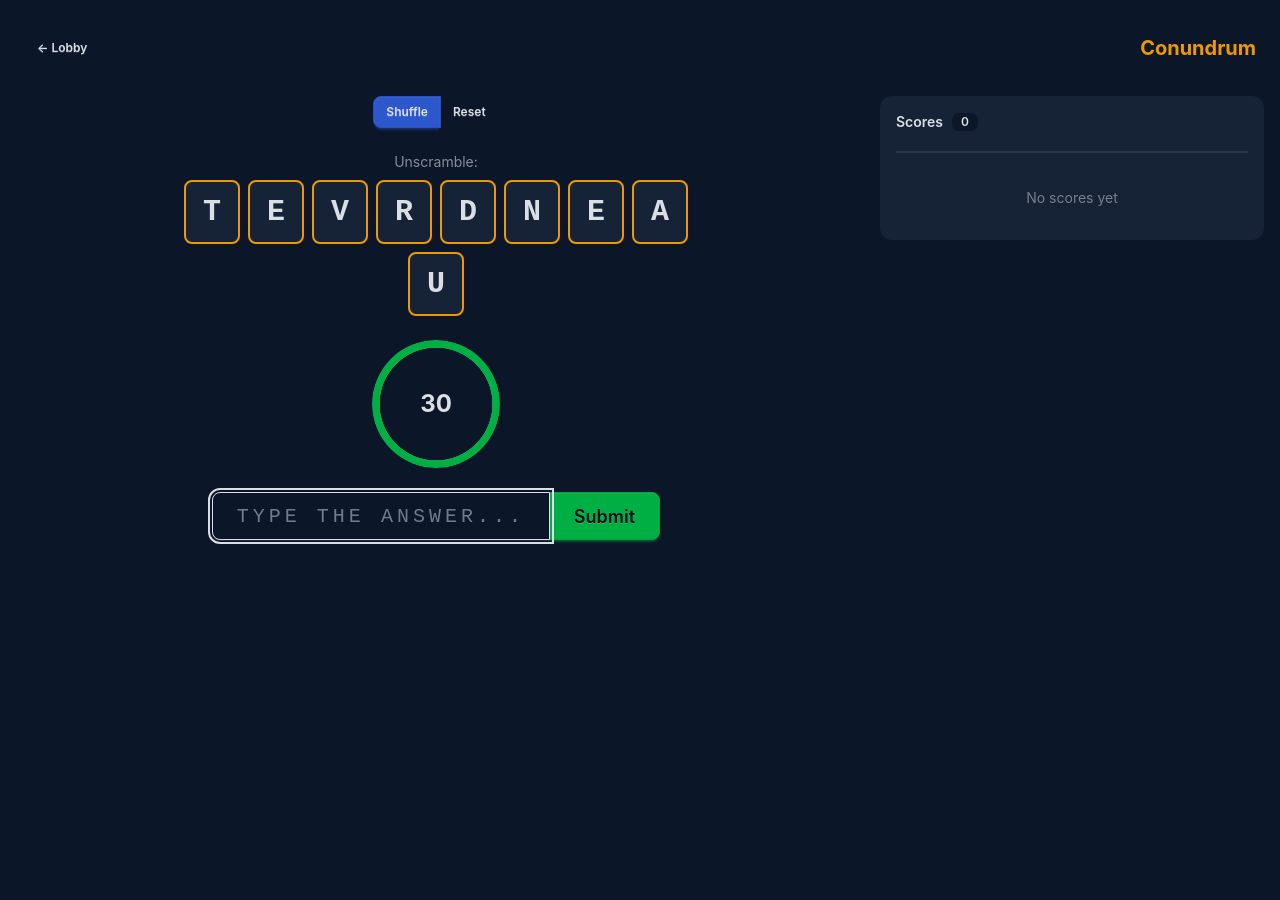
Scenario: MultiplayerConundrumPage — solo host › lets a lone host solve the conundrum directly without a buzzer
// The host types the answer and submits directly (no relay over the wire).
Type "ADVENTURE" into the field with placeholder "Type the answer..." at [381, 516], box [212,492,550,540]
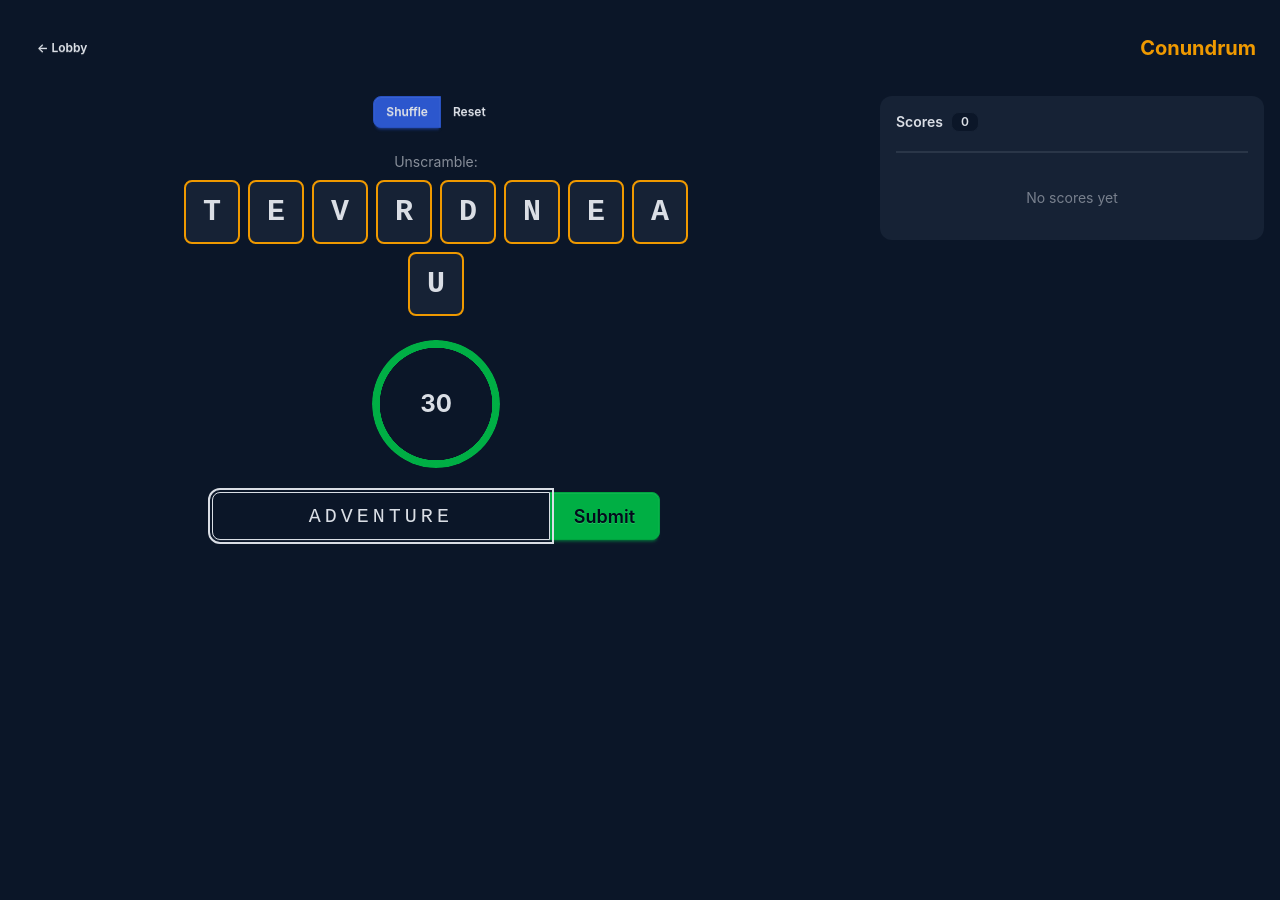
Click the button "Submit" at [604, 516], box [549,492,660,540]
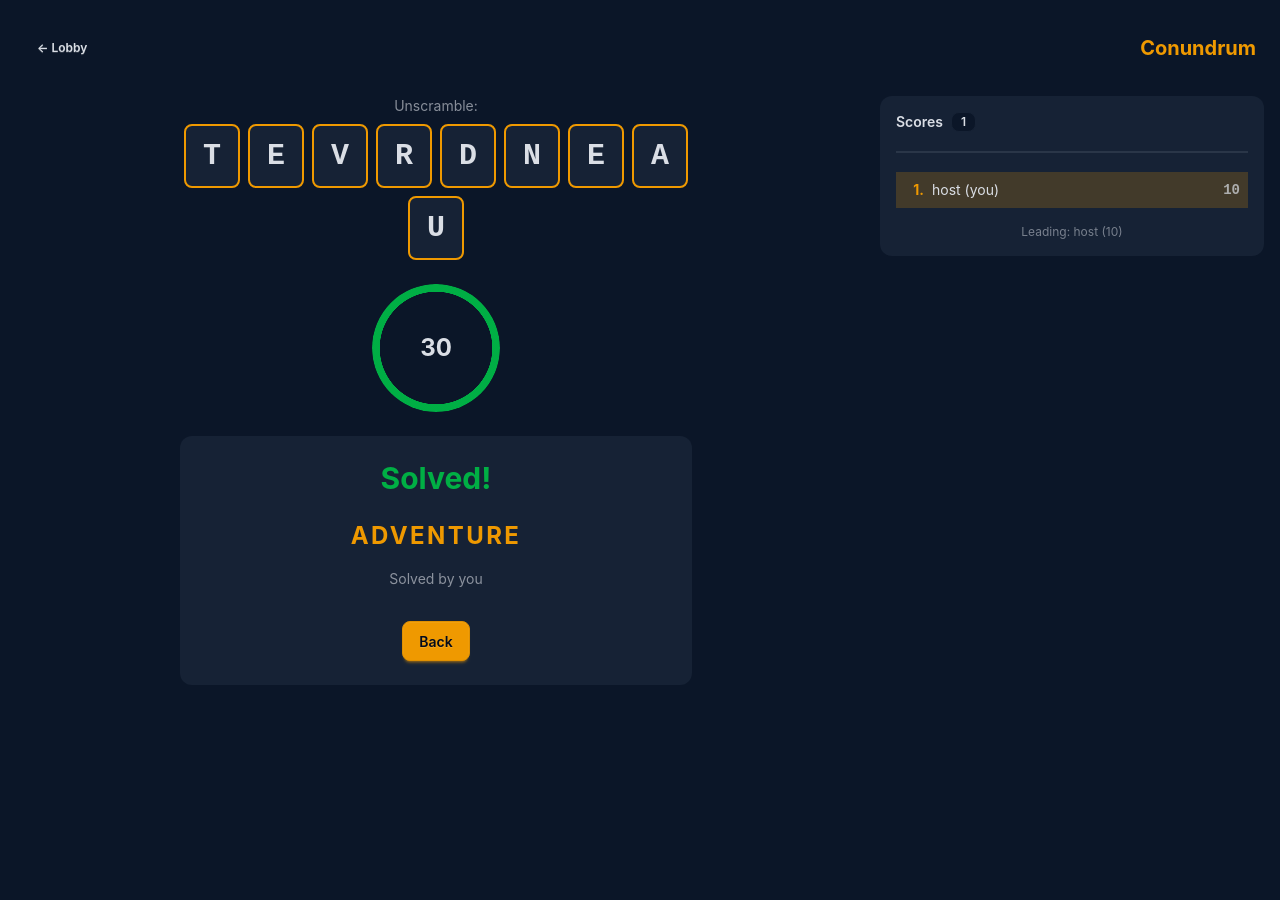
Expected: the text "Solved!" is shown, [381,460,492,496]
Expected: the text "ADVENTURE" is shown, [351,520,521,552]
Expected: the text "Solved by you" is shown, [389,568,483,589]
